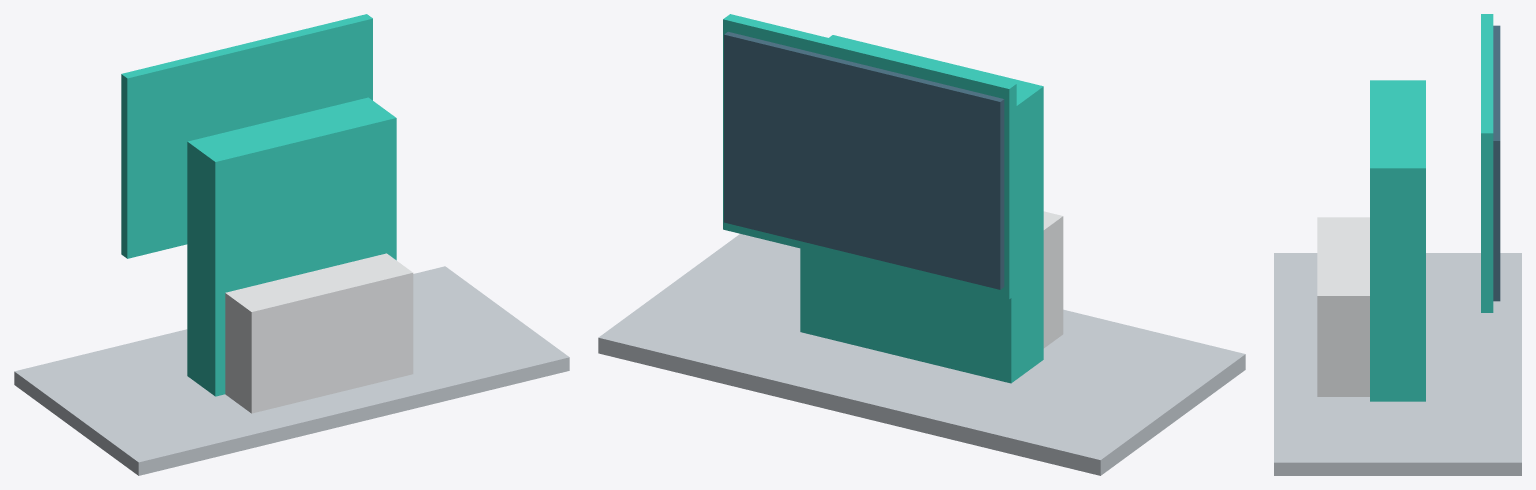
3 views of the same model, side by side, from view 1: azimuth 30°, elevation 25°; view 2: azimuth 150°, elevation 25°; view 3: azimuth 270°, elevation 25° (orthographic). The views are drawn at different scales.
Visible parts, largest first — view 1: Exhibition Booth Concept; view 2: Exhibition Booth Concept; view 3: Exhibition Booth Concept.
Boxes of the visible parts, x1,y1,x2,y2 form: Exhibition Booth Concept: [14, 14, 569, 475]; Exhibition Booth Concept: [598, 14, 1245, 475]; Exhibition Booth Concept: [1274, 14, 1521, 475].
Bounding box in the file's own units: 4 × 2.65 × 2.
